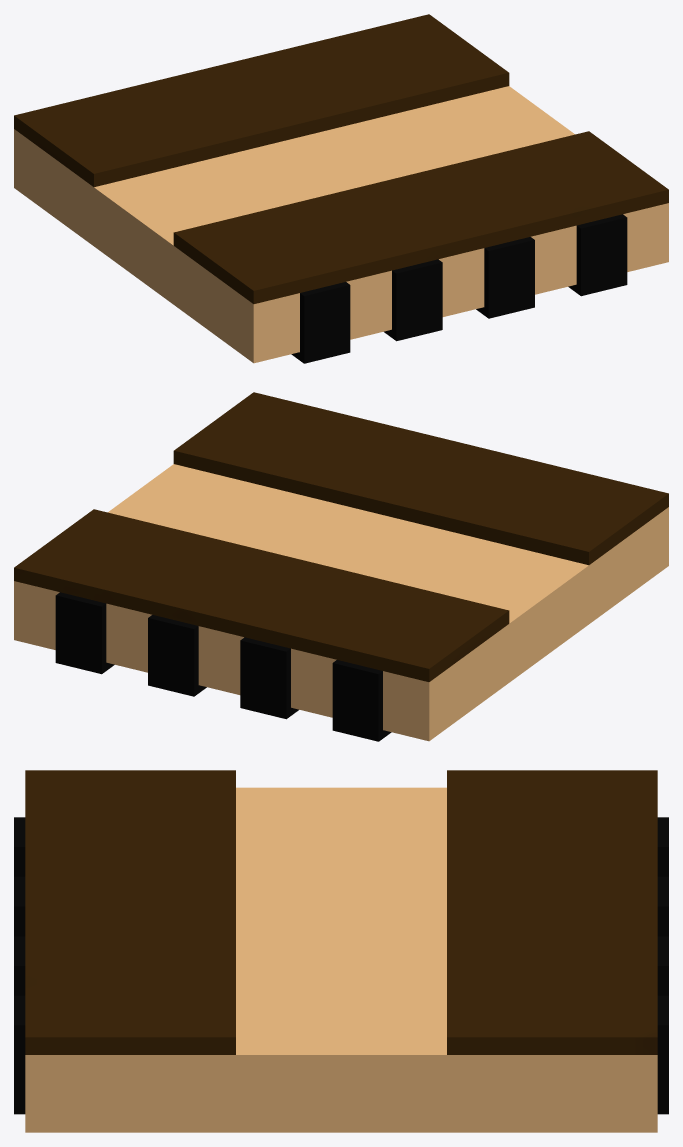
Rendered from bridge.fbx.
3 views of the same model, one above another, from view 1: azimuth 30°, elevation 25°; view 2: azimuth 150°, elevation 25°; view 3: azimuth 270°, elevation 25° (orthographic). The views are drawn at different scales.
Parts seen in each view (by area): view 1: Cube.011; view 2: Cube.011; view 3: Cube.011.
Boxes of the visible parts, x1=… form: Cube.011: x1=14, y1=14, x2=668, y2=363; Cube.011: x1=14, y1=392, x2=668, y2=741; Cube.011: x1=14, y1=770, x2=668, y2=1132.
Size of the model in its own units: 3000 by 559 by 3108.
Materials: 1 (1 with a texture image).
